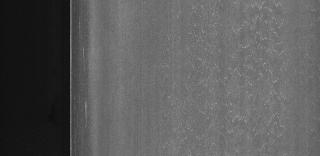silk spot: (178, 5, 294, 146)
